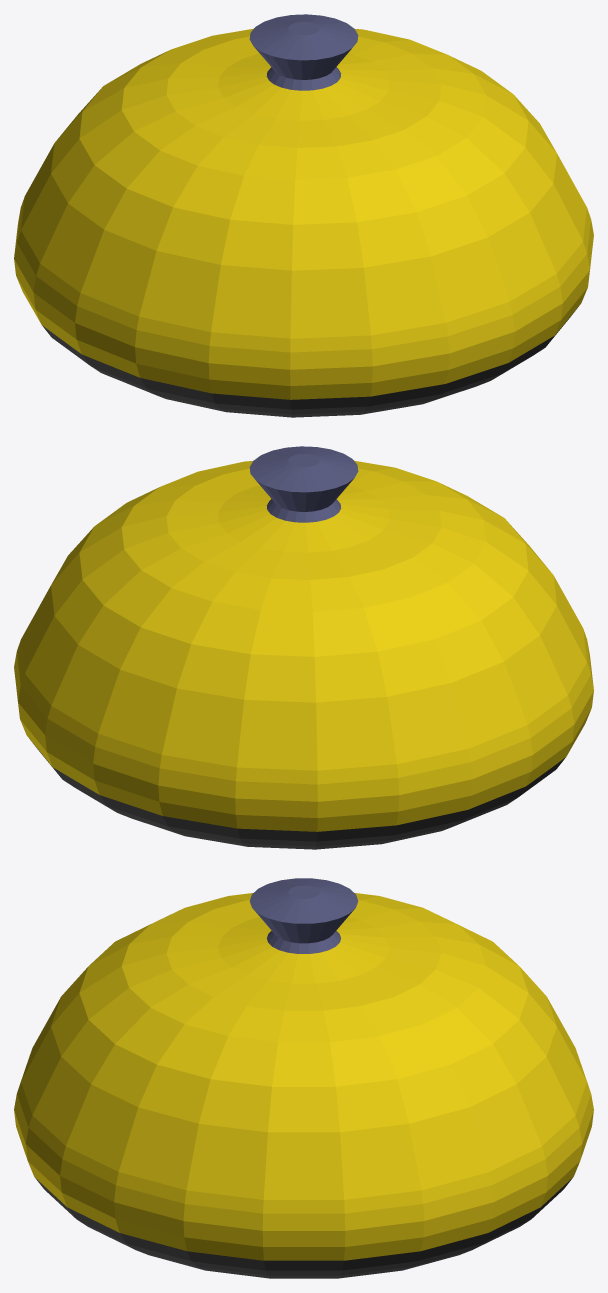
The model's file is Campana.fbx.
The picture shows the model from 3 angles, top to bottom: view 1: azimuth 30°, elevation 25°; view 2: azimuth 150°, elevation 25°; view 3: azimuth 270°, elevation 25°; orthographic projection.
Parts seen in each view (by area): view 1: Campana Vendedor; view 2: Campana Vendedor; view 3: Campana Vendedor.
Part boxes in pixels (box(x1,y1,x2,y2)): Campana Vendedor: box(14, 14, 593, 417); Campana Vendedor: box(14, 446, 593, 849); Campana Vendedor: box(14, 878, 593, 1278).
Size of the model in its own units: 242 by 244 by 134.
